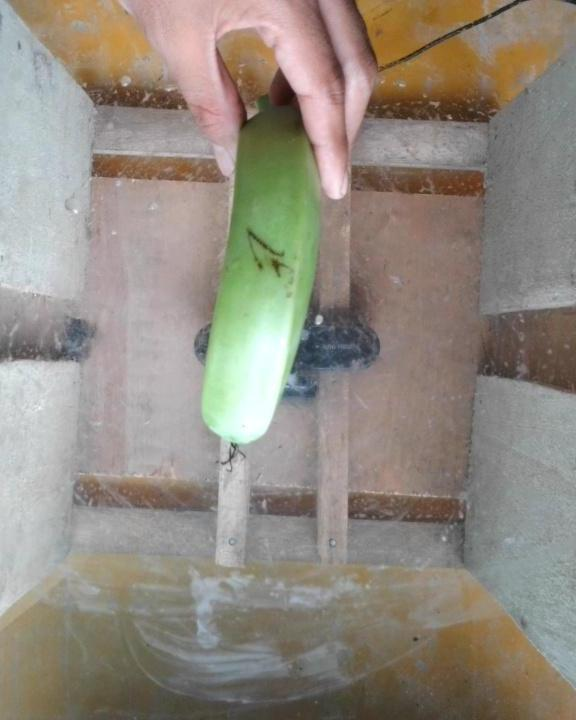CLASS B: (199, 92, 348, 464)
Class A: (234, 222, 301, 291)
